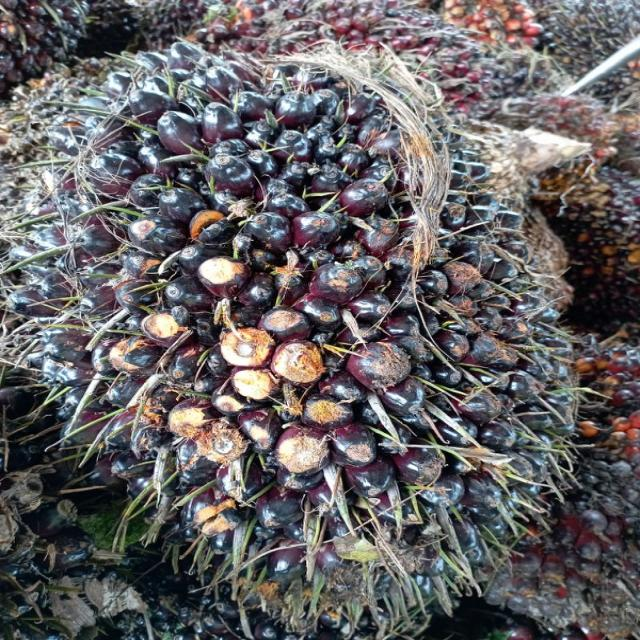fraksi 00: (0, 39, 591, 611)
